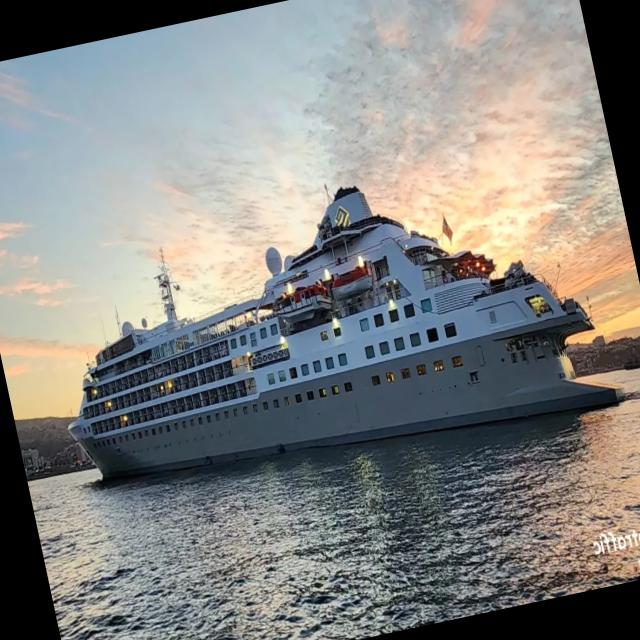Cruise: (68, 185, 622, 477)
